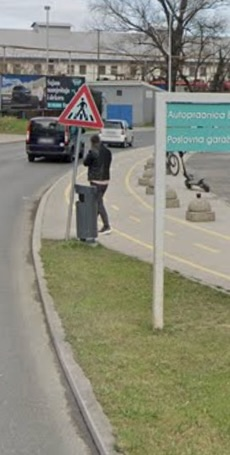Približavanje pješačkom prijelazu: (58, 83, 104, 129)
